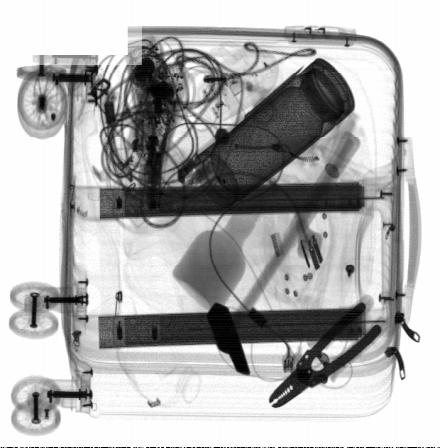Hammer: (206, 131, 362, 375)
Knife: (217, 78, 279, 251)
Pliers: (269, 293, 389, 409)
Scissors: (131, 66, 197, 216)
